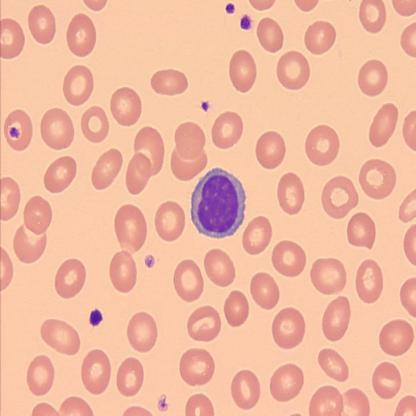Lymphocyte: (191, 166, 246, 238)
